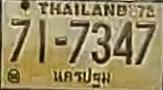1: (38, 18, 45, 62)
3: (90, 21, 111, 64)
4: (113, 20, 133, 65)
7: (69, 19, 89, 62), (10, 18, 30, 61), (135, 22, 155, 63)
NPT: (49, 65, 114, 90)
